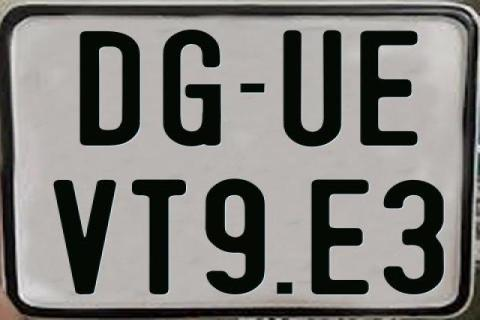0: (205, 178, 266, 298), (382, 180, 444, 294)
D: (78, 30, 142, 150)
E: (357, 28, 420, 147), (310, 179, 369, 295)
G: (163, 27, 224, 148)
T: (132, 179, 191, 295)
U: (280, 30, 344, 146)
V: (51, 180, 120, 294)
